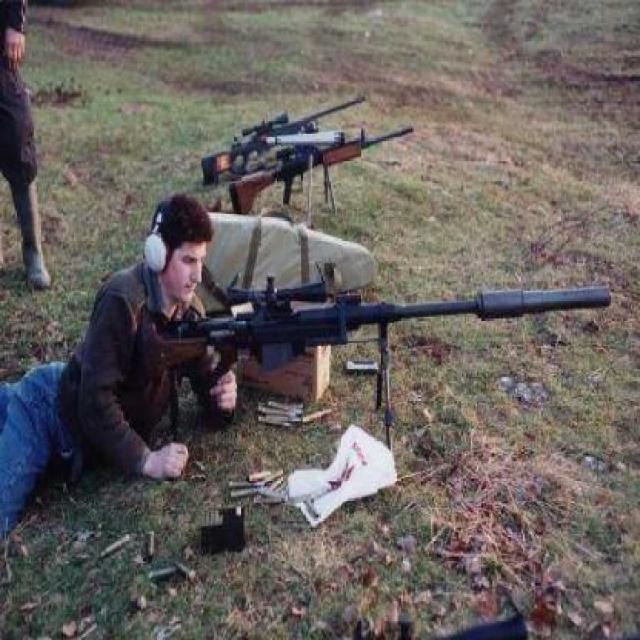weapon: (136, 276, 610, 404), (196, 114, 413, 212)
